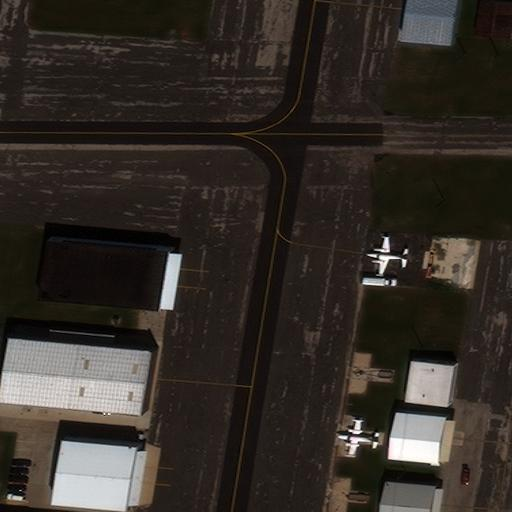Small Civil Transport: (365, 235, 409, 277), (337, 419, 379, 458)
